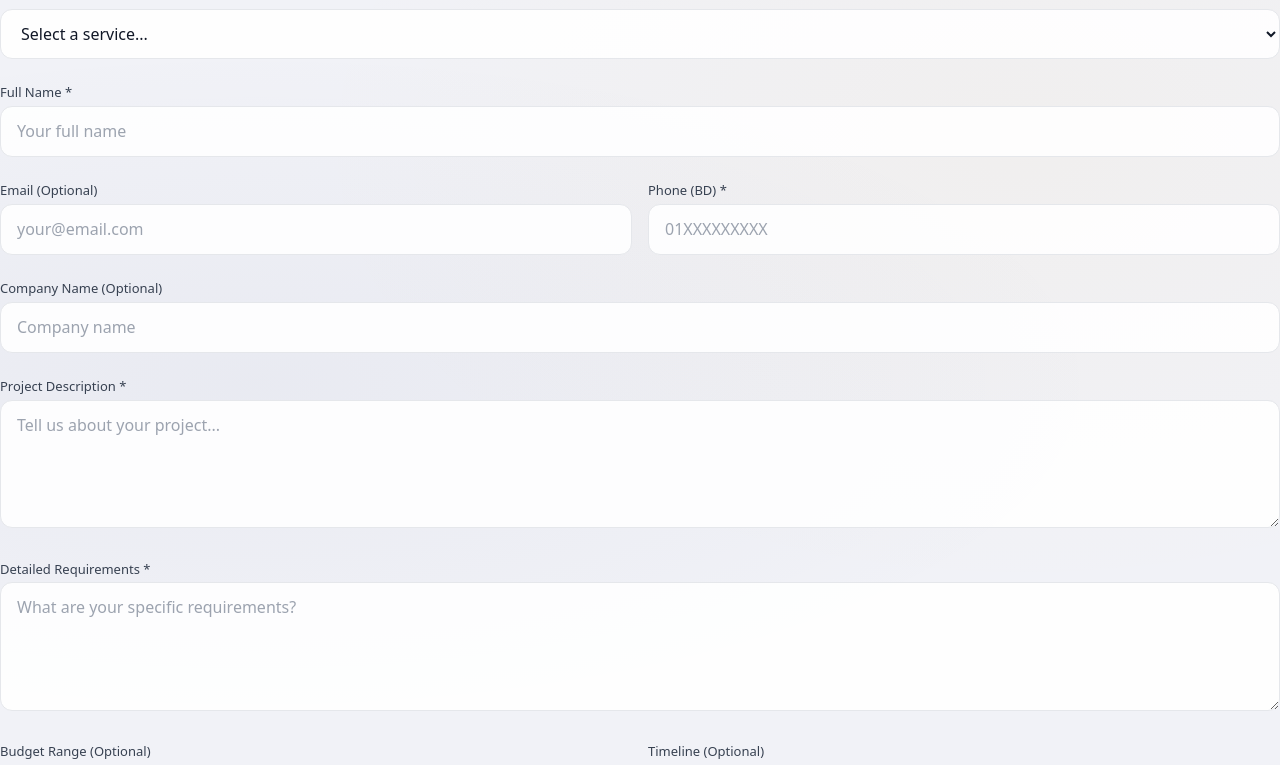
Test: Lead Form › should submit lead inquiry with valid data
Select "Custom Software Development" in the dropdown below "What service do you need? *" at (640, 34), box [0,9,1279,59]
Type "Jane Smith" into the field with placeholder "Your full name" at (640, 132), box [0,106,1279,157]
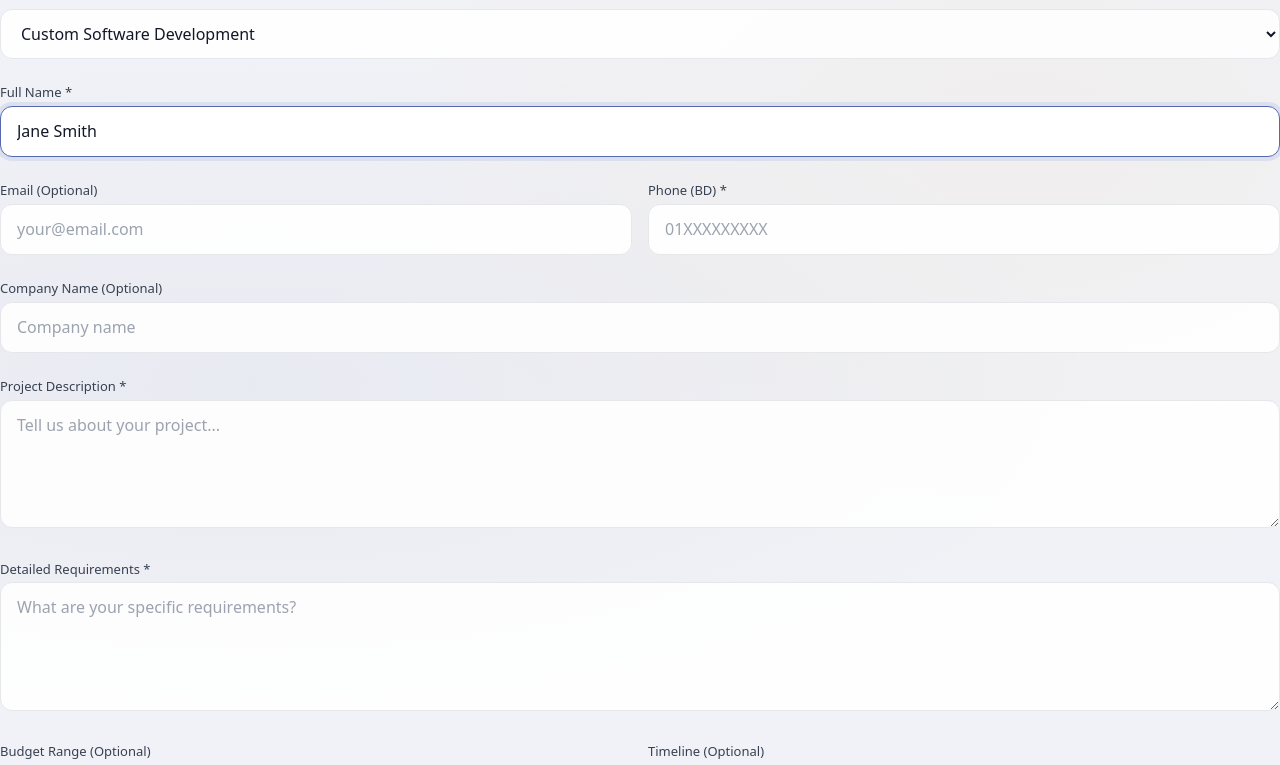
Type "jane@example.com" into the field with placeholder "your@email.com" at (316, 230), box [0,204,632,255]
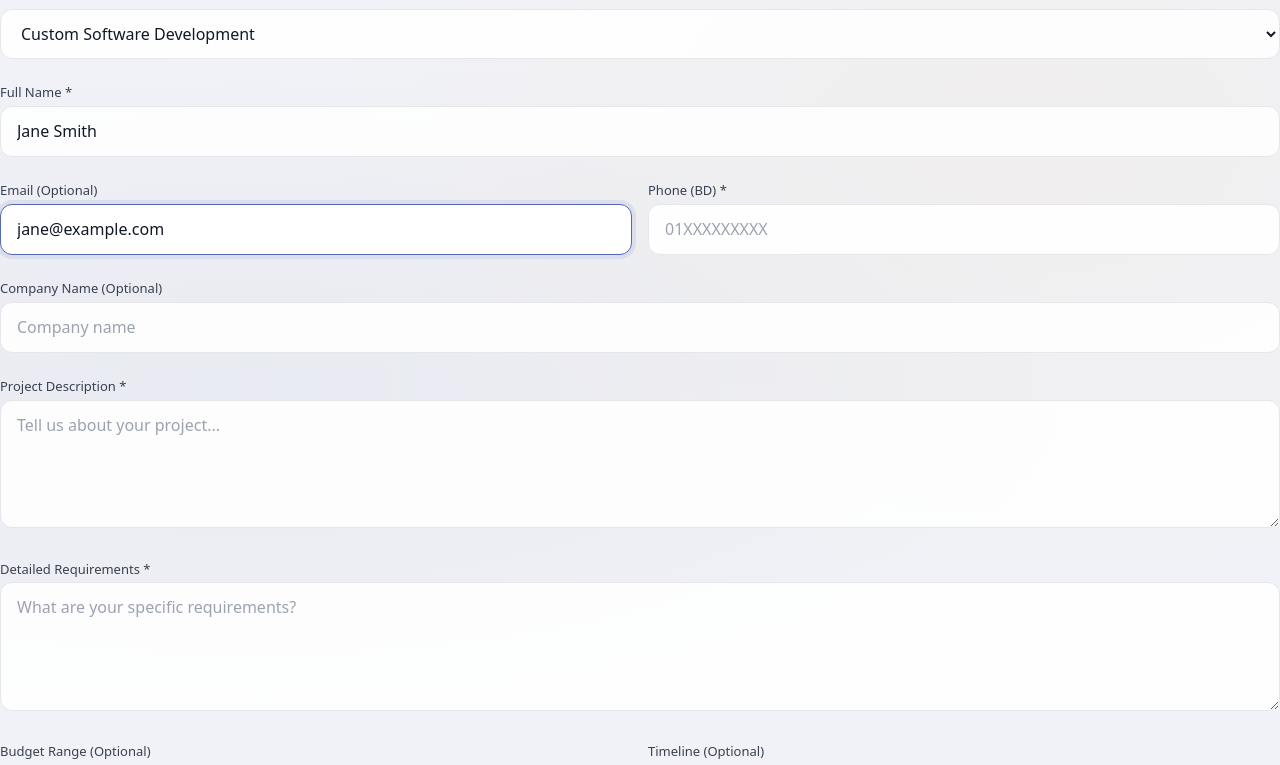
Type "01912345678" into the field with placeholder "01XXXXXXXXX" at (964, 230), box [648,204,1279,255]
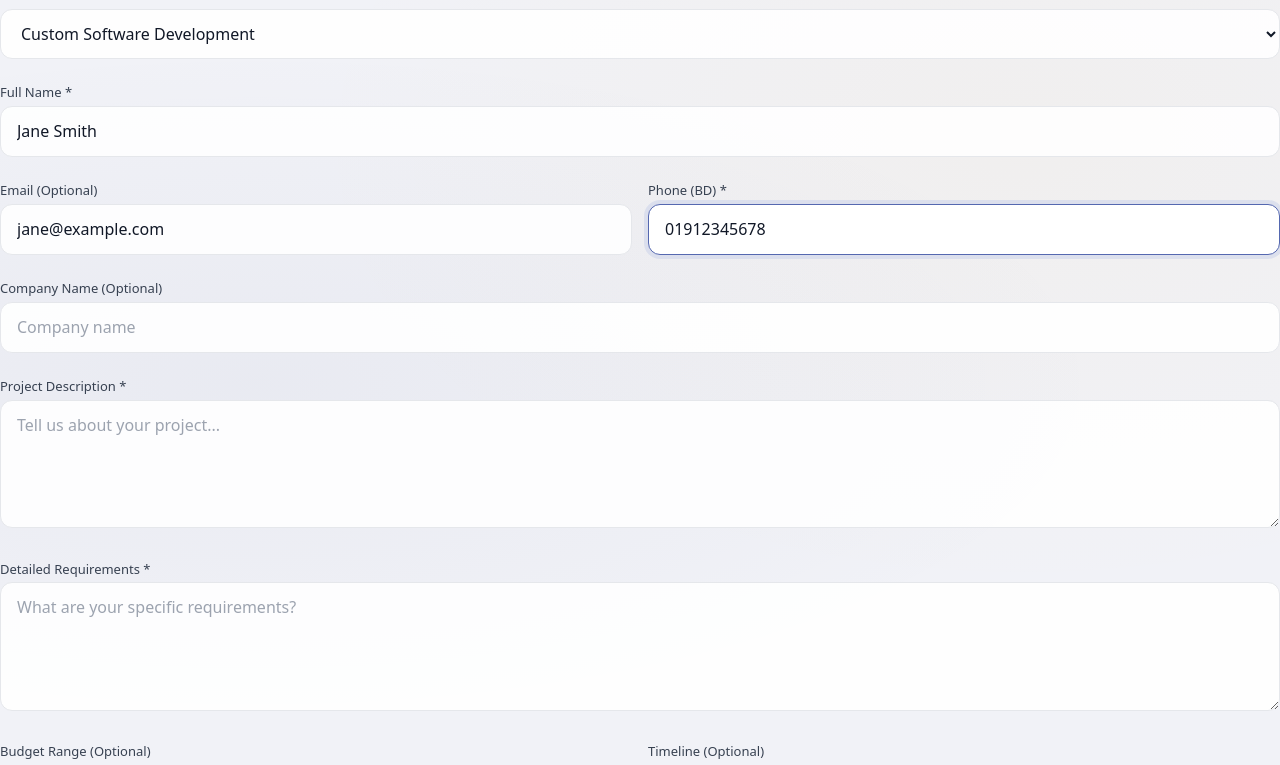
Type "We need a custom CRM system with integration capabilities" into the text box with placeholder "Tell us about your project..." at (640, 464), box [0,400,1279,528]
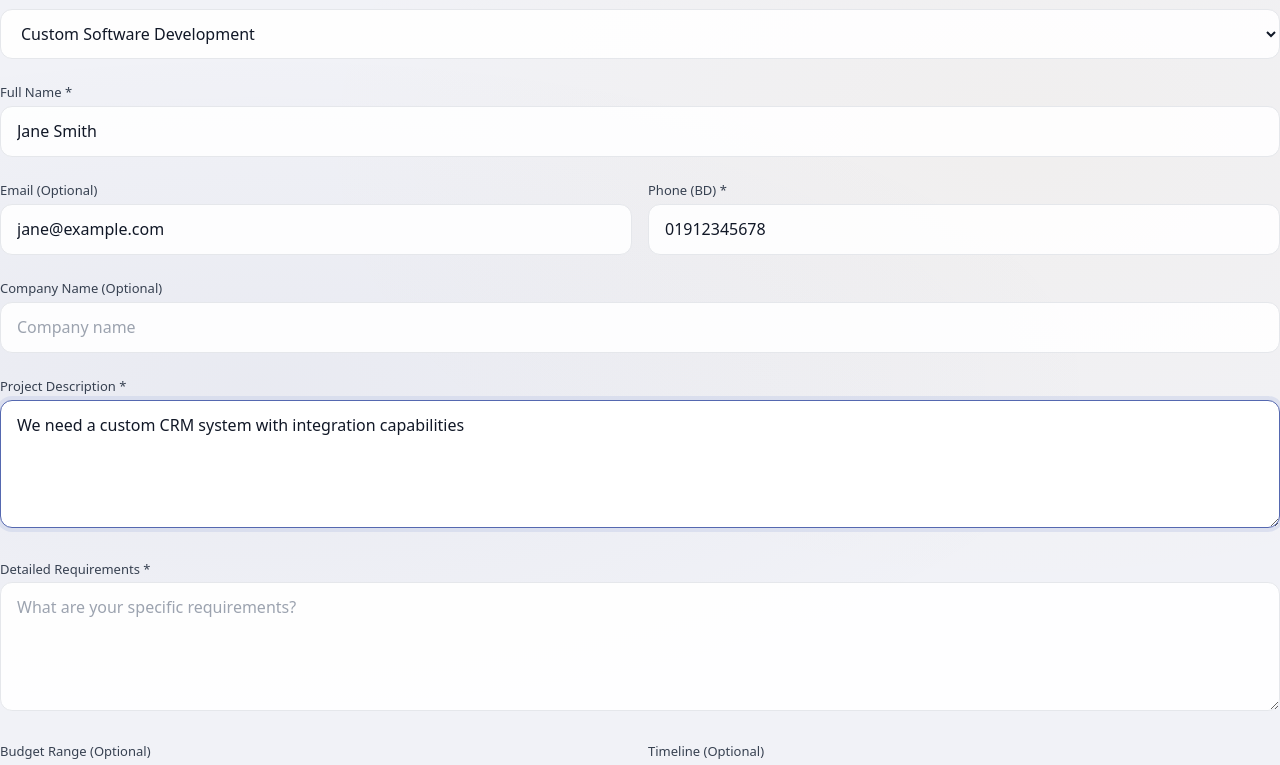
Type "Multi-user support, real-time notifications, and mobile compatibility required" into the text box with placeholder "What are your specific requirements?" at (640, 646), box [0,582,1279,711]
(page scrolled)
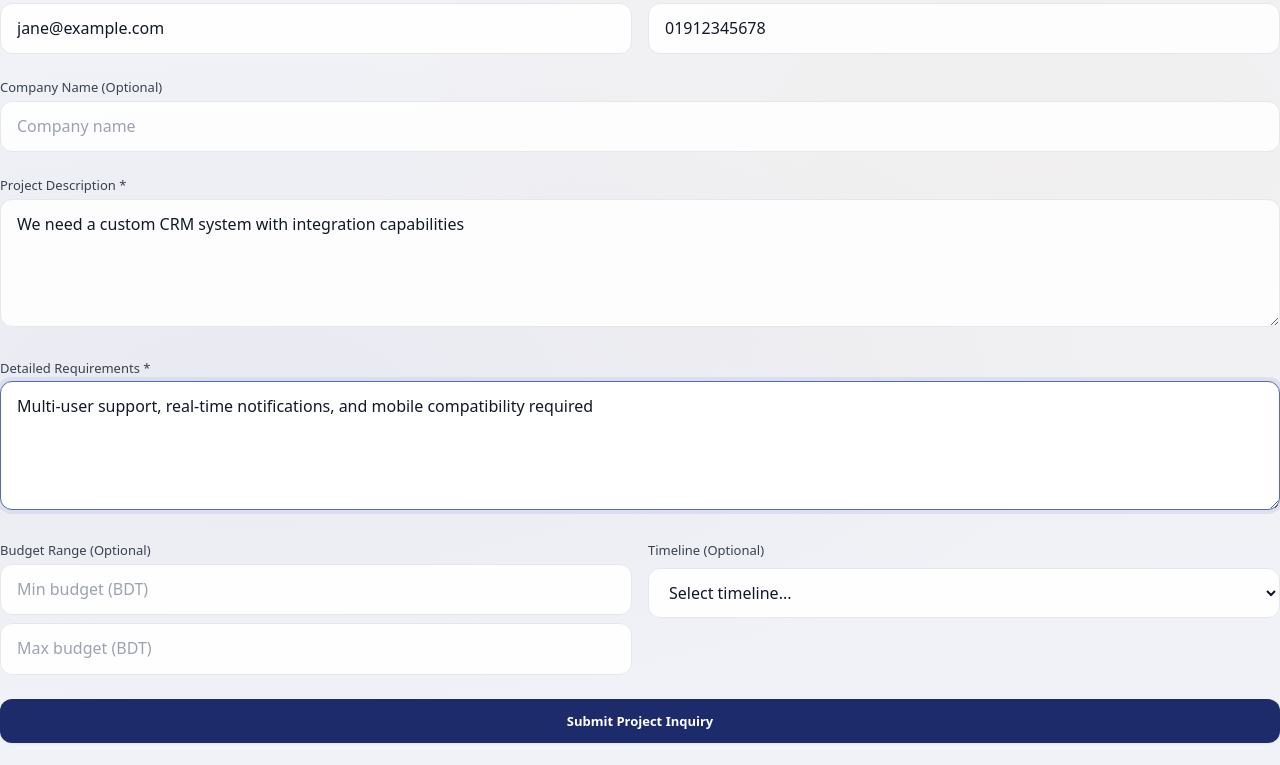
Click the button "Submit Project Inquiry" at (640, 721), box [0,699,1279,743]
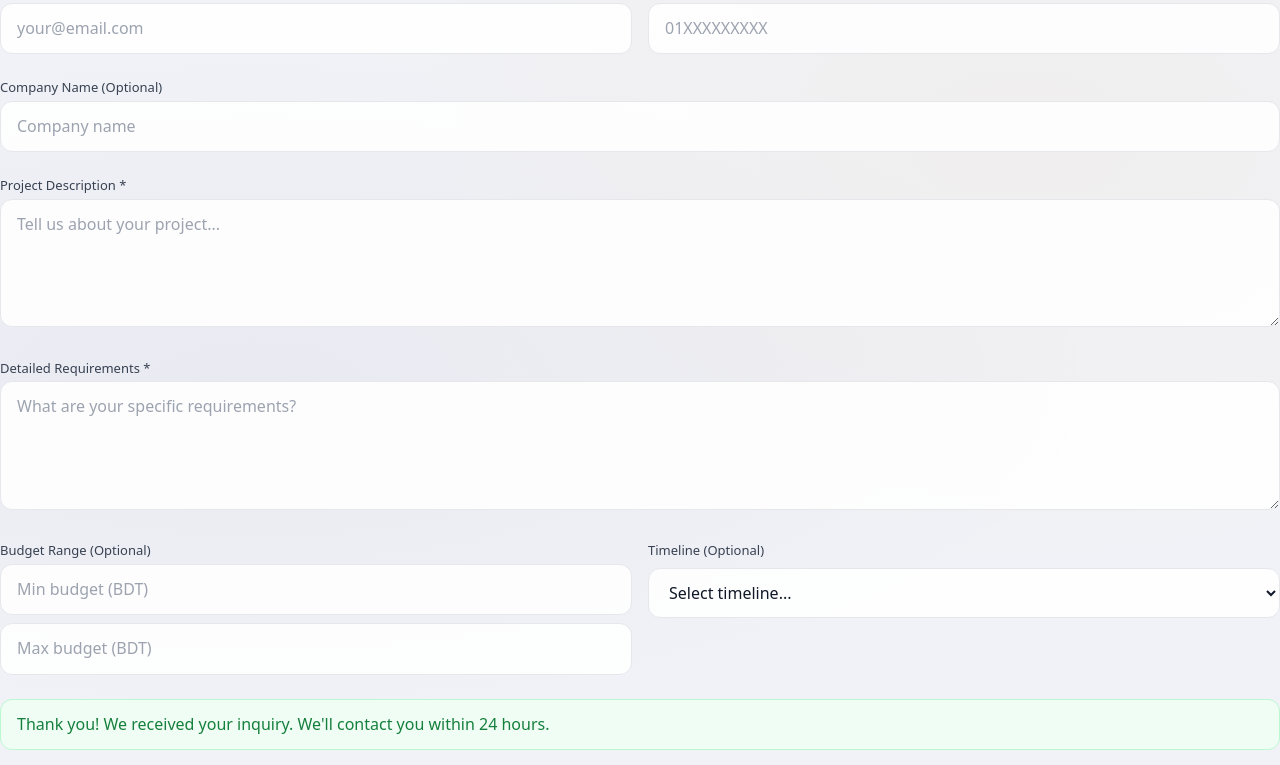
Expected: the text "received your inquiry" is shown, [17,713,550,735]
